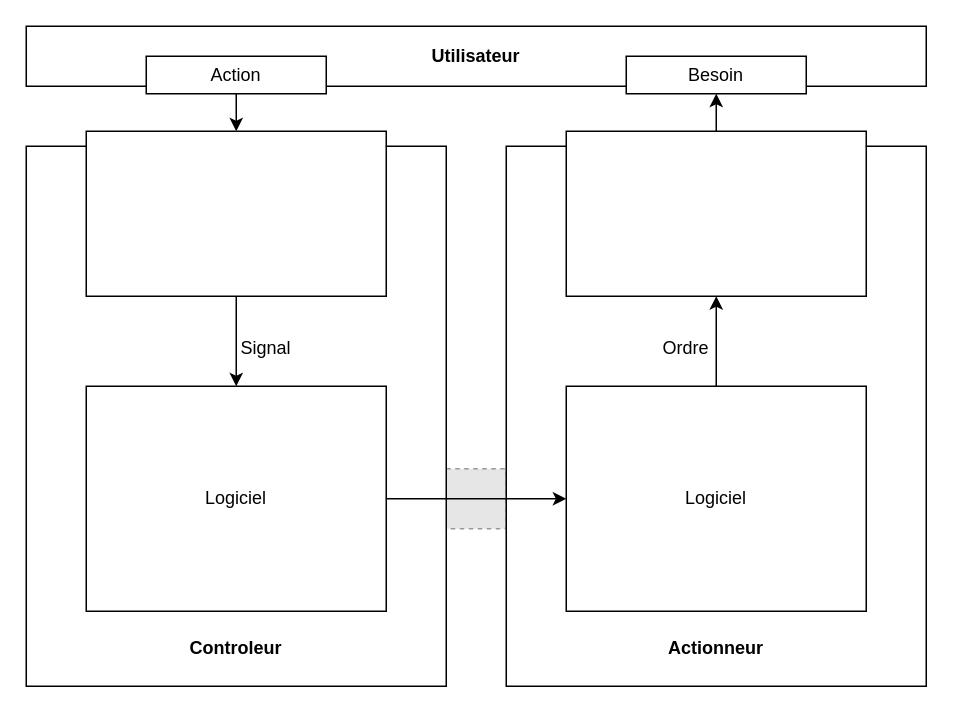
Image size: 953x713. Some labels were removed from this diagram. Grey dashed boxes stand in for pictures. Here are the shapes that lost their labels. From the top down, the centre of each, then its label:
At [235,213]: "Capteur".
At [715,213]: "Actionné".
